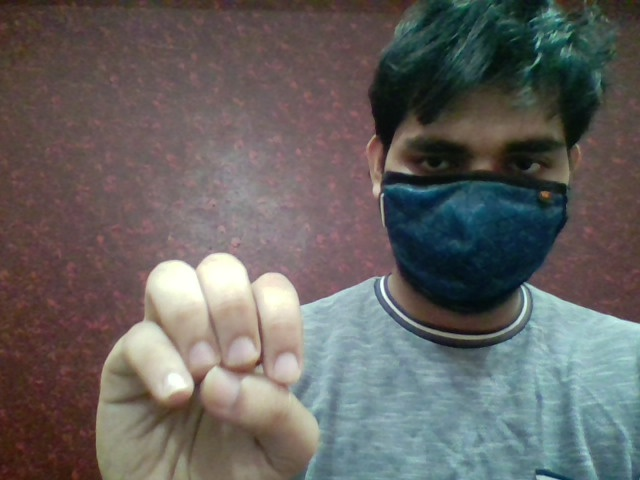e: (84, 245, 323, 480)
